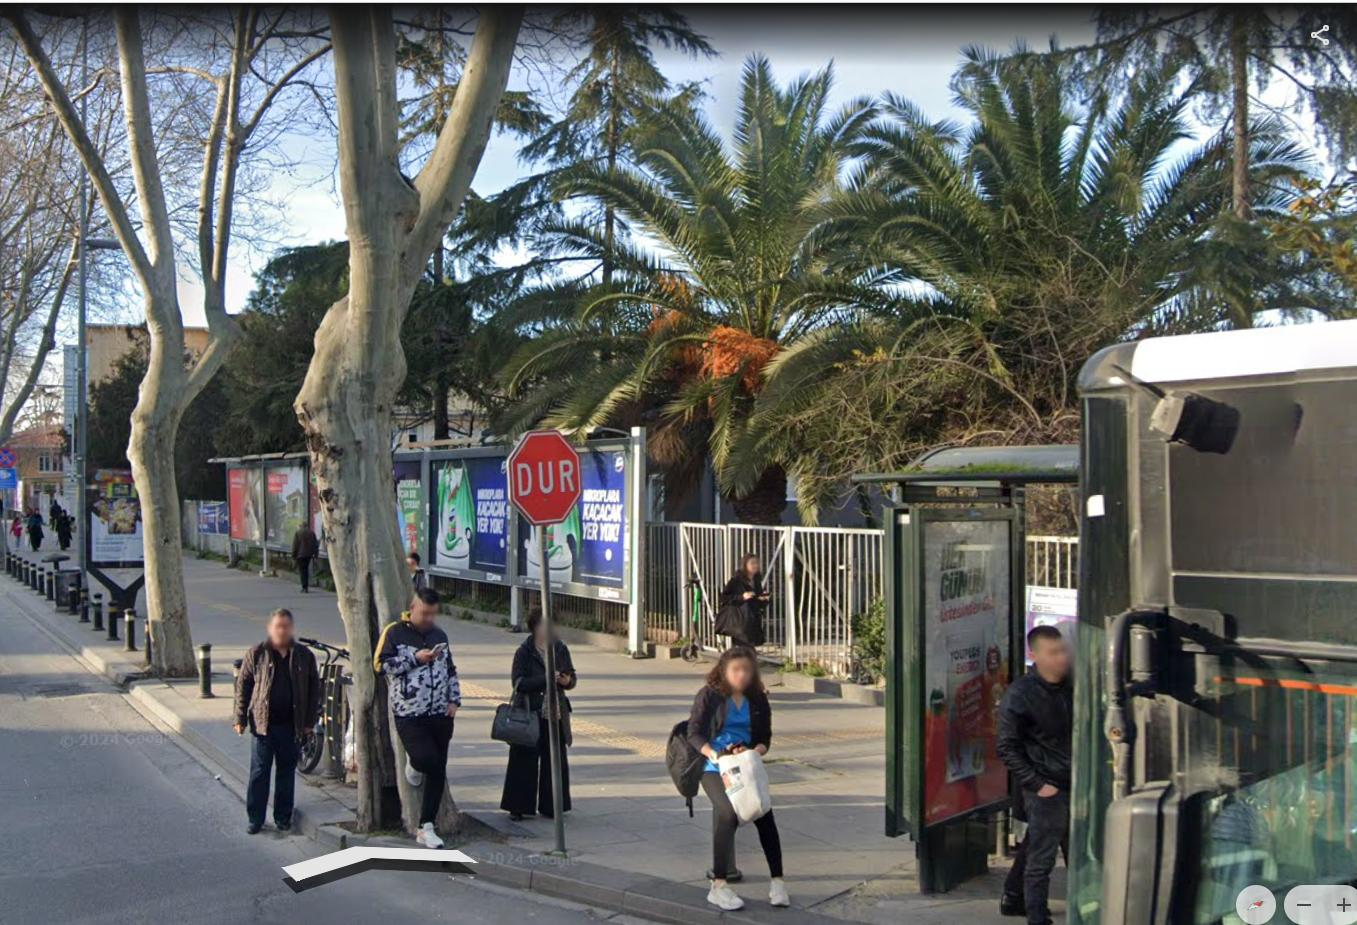stop: (506, 431, 584, 525)
